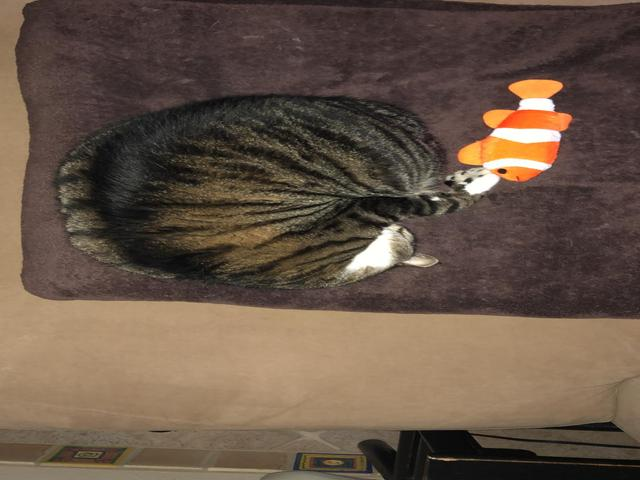clownfish: (458, 77, 573, 186)
playdoh: (58, 97, 500, 285)
